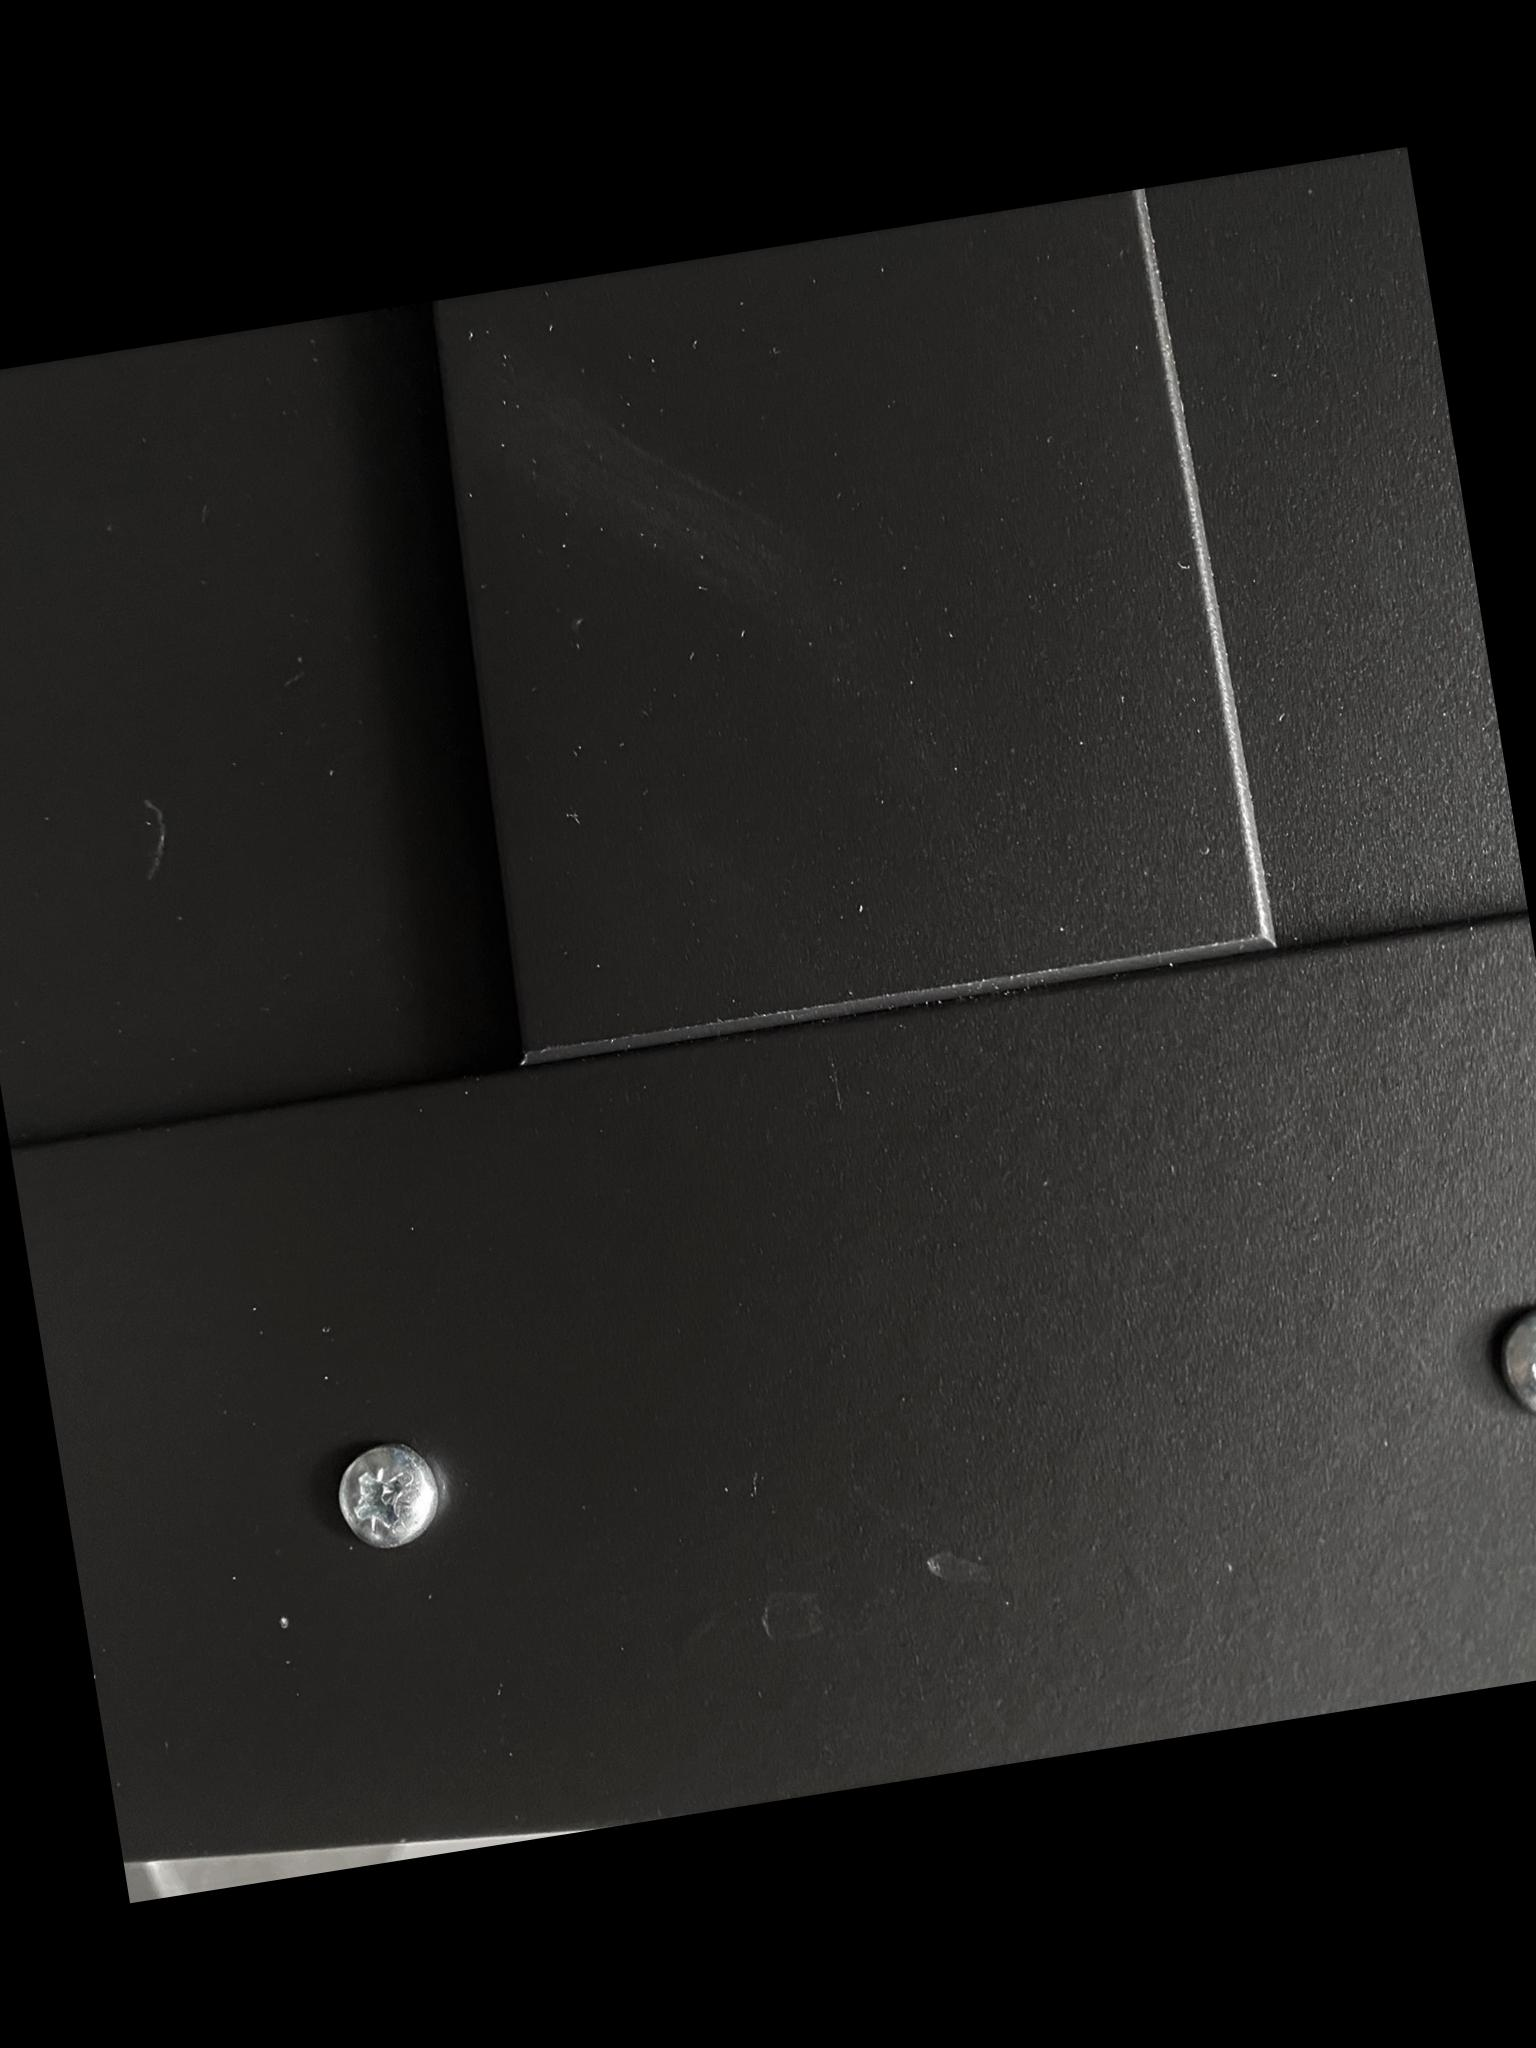PH: (329, 1437, 442, 1556), (1492, 1300, 1536, 1429)
